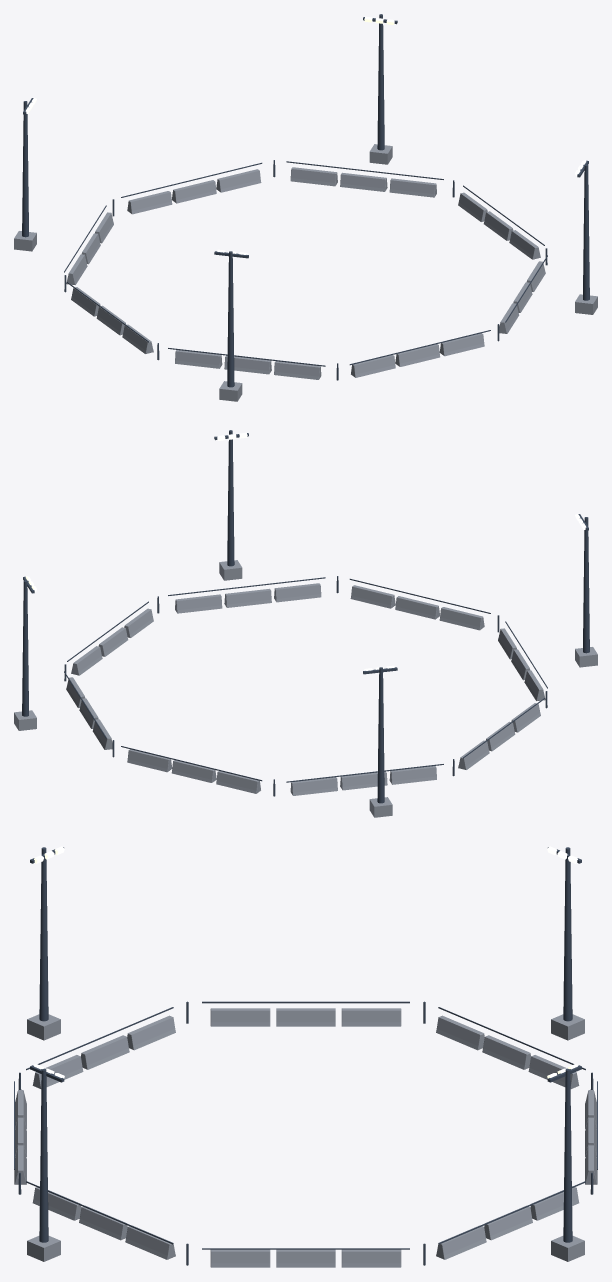
Rendered from arena_props.glb.
The picture shows the model from 3 angles, top to bottom: view 1: azimuth 30°, elevation 25°; view 2: azimuth 150°, elevation 25°; view 3: azimuth 270°, elevation 25°; orthographic projection. The views are drawn at different scales.
Parts seen in each view (by area): view 1: LightMast_3, LightMast_1, LightMast_0, LightMast_2, JerseyBarrier_3_1, JerseyBarrier_3_2, JerseyBarrier_3_0, JerseyBarrier_7_2, JerseyBarrier_7_0, JerseyBarrier_4_0, JerseyBarrier_4_1, JerseyBarrier_4_2 (+4 smaller); view 2: LightMast_2, LightMast_0, LightMast_1, LightMast_3, JerseyBarrier_1_1, JerseyBarrier_1_0, JerseyBarrier_1_2, JerseyBarrier_5_0, JerseyBarrier_5_2, JerseyBarrier_0_2, JerseyBarrier_0_1, JerseyBarrier_0_0 (+4 smaller); view 3: LightMast_0, LightMast_1, LightMast_2, LightMast_3, JerseyBarrier_6_0, JerseyBarrier_6_2, JerseyBarrier_2_0, JerseyBarrier_2_2, JerseyBarrier_2_1, JerseyBarrier_6_1, JerseyBarrier_5_1, JerseyBarrier_7_1 (+15 smaller).
Part boxes in pixels (bbox=[...]): LightMast_3: bbox=[227, 251, 234, 387]; LightMast_1: bbox=[377, 14, 384, 150]; LightMast_0: bbox=[583, 164, 589, 300]; LightMast_2: bbox=[22, 101, 28, 237]; JerseyBarrier_3_1: bbox=[340, 172, 387, 191]; JerseyBarrier_3_2: bbox=[290, 167, 337, 186]; JerseyBarrier_3_0: bbox=[389, 178, 436, 197]; JerseyBarrier_7_2: bbox=[274, 361, 321, 379]; JerseyBarrier_7_0: bbox=[175, 350, 222, 368]; JerseyBarrier_4_0: bbox=[216, 169, 261, 192]; JerseyBarrier_4_1: bbox=[171, 180, 216, 203]; JerseyBarrier_4_2: bbox=[127, 191, 172, 214]; LightMast_2: bbox=[377, 667, 384, 803]; LightMast_0: bbox=[227, 430, 234, 566]; LightMast_1: bbox=[22, 580, 28, 716]; LightMast_3: bbox=[583, 517, 589, 653]; JerseyBarrier_1_1: bbox=[224, 588, 271, 607]; JerseyBarrier_1_0: bbox=[274, 583, 321, 602]; JerseyBarrier_1_2: bbox=[175, 594, 222, 613]; JerseyBarrier_5_0: bbox=[290, 777, 337, 795]; JerseyBarrier_5_2: bbox=[389, 766, 436, 784]; JerseyBarrier_0_2: bbox=[350, 585, 395, 608]; JerseyBarrier_0_1: bbox=[395, 596, 440, 619]; JerseyBarrier_0_0: bbox=[439, 607, 484, 630]; LightMast_0: bbox=[39, 1068, 48, 1242]; LightMast_1: bbox=[563, 1068, 572, 1242]; LightMast_2: bbox=[563, 847, 572, 1021]; LightMast_3: bbox=[39, 847, 48, 1021]; JerseyBarrier_6_0: bbox=[341, 1008, 401, 1026]; JerseyBarrier_6_2: bbox=[210, 1008, 270, 1026]; JerseyBarrier_2_0: bbox=[210, 1249, 270, 1267]; JerseyBarrier_2_2: bbox=[341, 1249, 401, 1267]; JerseyBarrier_2_1: bbox=[276, 1249, 335, 1267]; JerseyBarrier_6_1: bbox=[276, 1008, 335, 1026]; JerseyBarrier_5_1: bbox=[482, 1035, 530, 1069]; JerseyBarrier_7_1: bbox=[81, 1035, 129, 1069].
Bounding box in the file's own units: 33.89 × 11.87 × 33.89.
